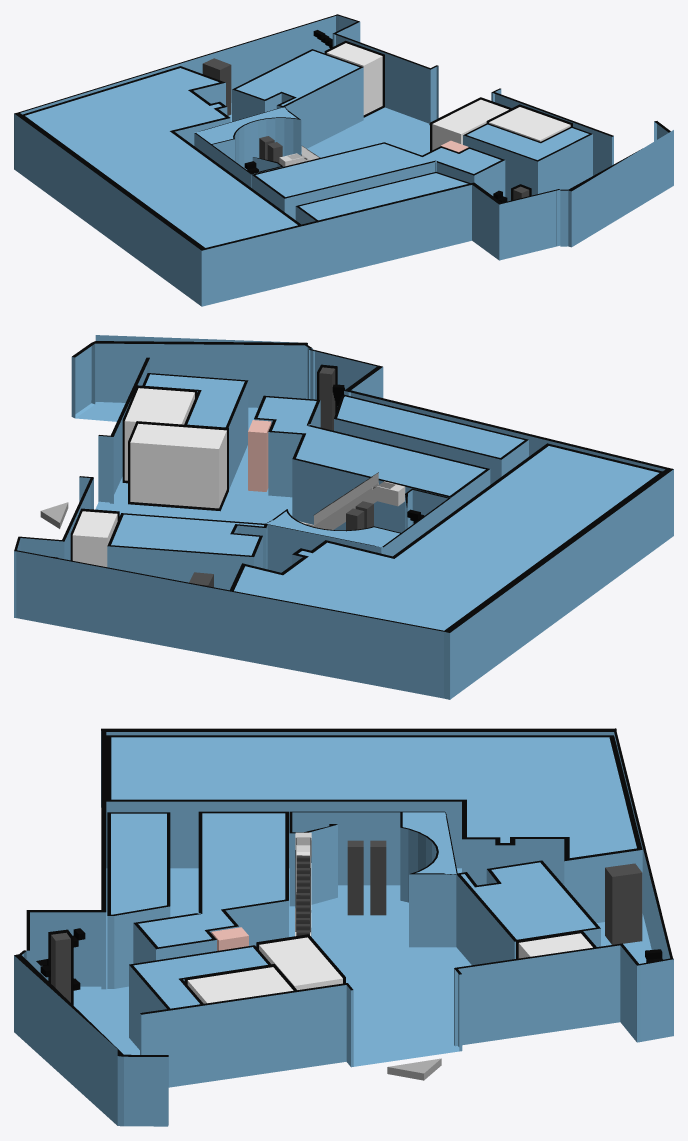
3 renders of one model, top to bottom at view 1: azimuth 30°, elevation 25°; view 2: azimuth 150°, elevation 25°; view 3: azimuth 270°, elevation 25°, orthographic. The views are drawn at different scales.
Parts seen in each view (by area): view 1: object, room_9_1_1, room_9_1_2, room_9_1_3, エレベーター_9_1_1, エレベーター_9_1_3; view 2: object, room_9_1_1, room_9_1_3, エスカレーター_9_1_1, room_9_1_2, トイレ_9_1_1, object_line, エレベーター_9_1_2, エレベーター_9_1_3; view 3: object, エレベーター_9_1_1, room_9_1_1, エレベーター_9_1_3, room_9_1_3, エスカレーター_9_1_1, エレベーター_9_1_2, room_9_1_2, transitionTo_9_1_1, トイレ_9_1_1.
Part boxes in pixels (x1,y1,x2,y2): object: [14, 14, 673, 306]; room_9_1_1: [432, 99, 508, 150]; room_9_1_2: [326, 43, 382, 114]; room_9_1_3: [489, 107, 570, 141]; エレベーター_9_1_1: [202, 58, 231, 115]; エレベーター_9_1_3: [259, 136, 282, 162]; object: [14, 335, 673, 699]; room_9_1_1: [130, 423, 226, 508]; room_9_1_3: [124, 388, 194, 480]; エスカレーター_9_1_1: [299, 472, 405, 529]; room_9_1_2: [72, 511, 117, 566]; トイレ_9_1_1: [248, 420, 271, 491]; object_line: [128, 421, 228, 511]; エレベーター_9_1_2: [319, 367, 335, 430]; エレベーター_9_1_3: [346, 501, 373, 530]; object: [14, 728, 673, 1126]; エレベーター_9_1_1: [605, 863, 642, 944]; room_9_1_1: [259, 937, 342, 989]; エレベーター_9_1_3: [347, 840, 386, 915]; room_9_1_3: [187, 967, 293, 1003]; エスカレーター_9_1_1: [295, 832, 311, 936]; エレベーター_9_1_2: [51, 932, 70, 1002]; room_9_1_2: [518, 933, 592, 958]; transitionTo_9_1_1: [387, 1058, 441, 1080]; トイレ_9_1_1: [211, 927, 248, 950].
Size of the model in its own units: 1.84 by 0.2582 by 1.6.
